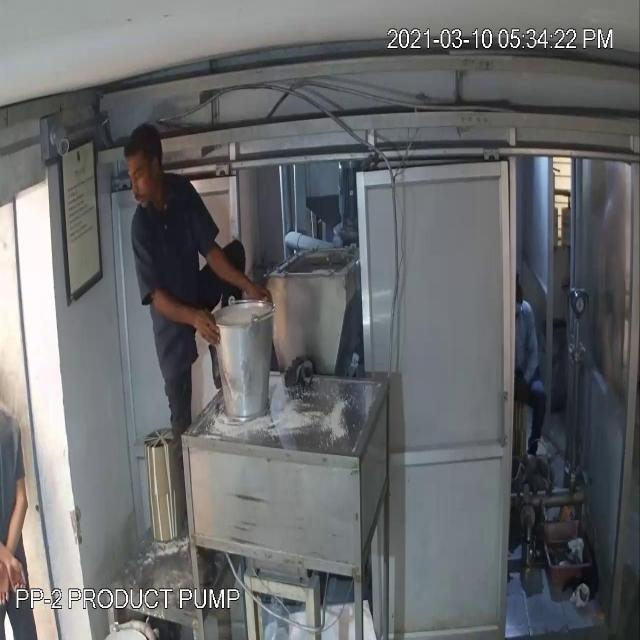No_Gloves: (15, 46, 242, 570)
